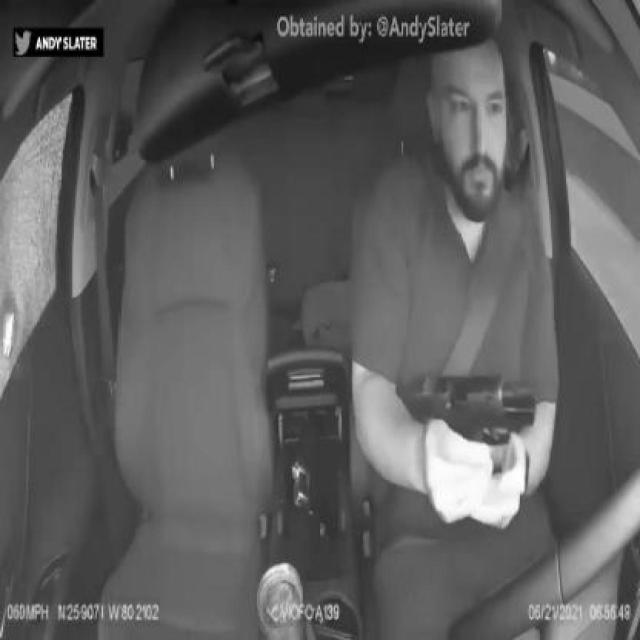weapon: (394, 372, 540, 471)
